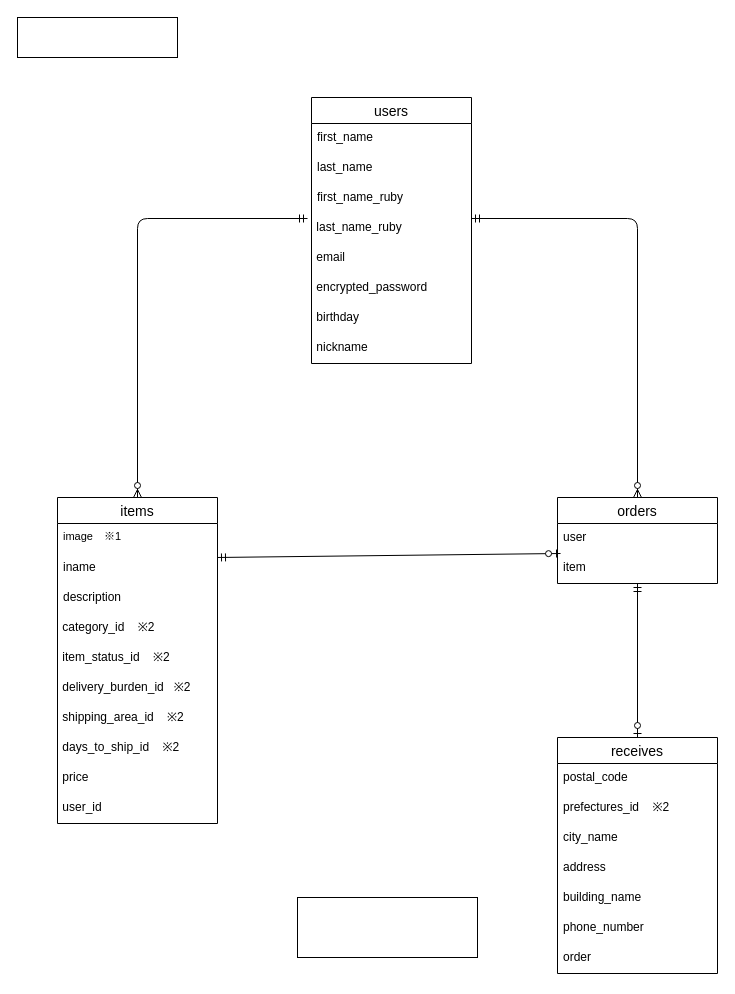
Some shapes in this 735 by 994 pixel diagram are drawn without their labels. Here are the shapes that lost their labels. From the top down, the centre of each, then its label:
the point at 97,37: frima ER図
the point at 387,927: ※1 Active_Storageで保存 ※2 Active_Hash使用
